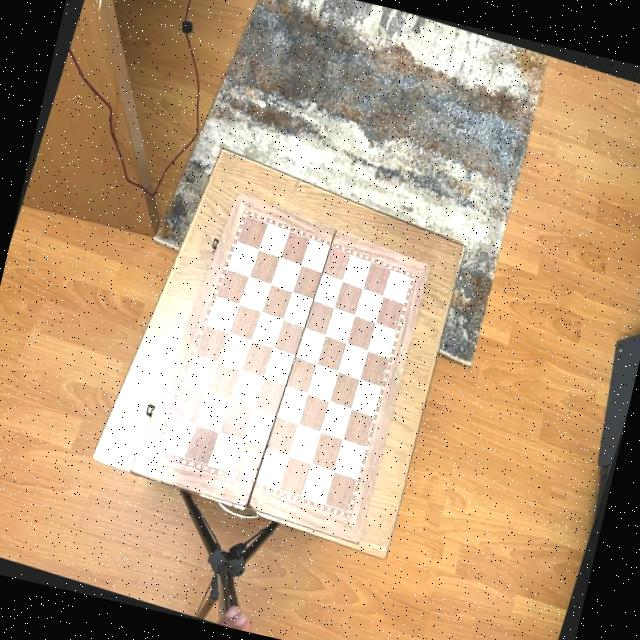corners: (415, 255, 440, 280), (118, 459, 142, 481), (234, 187, 254, 206), (347, 533, 365, 551)
